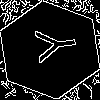Y: (25, 25, 78, 65)
